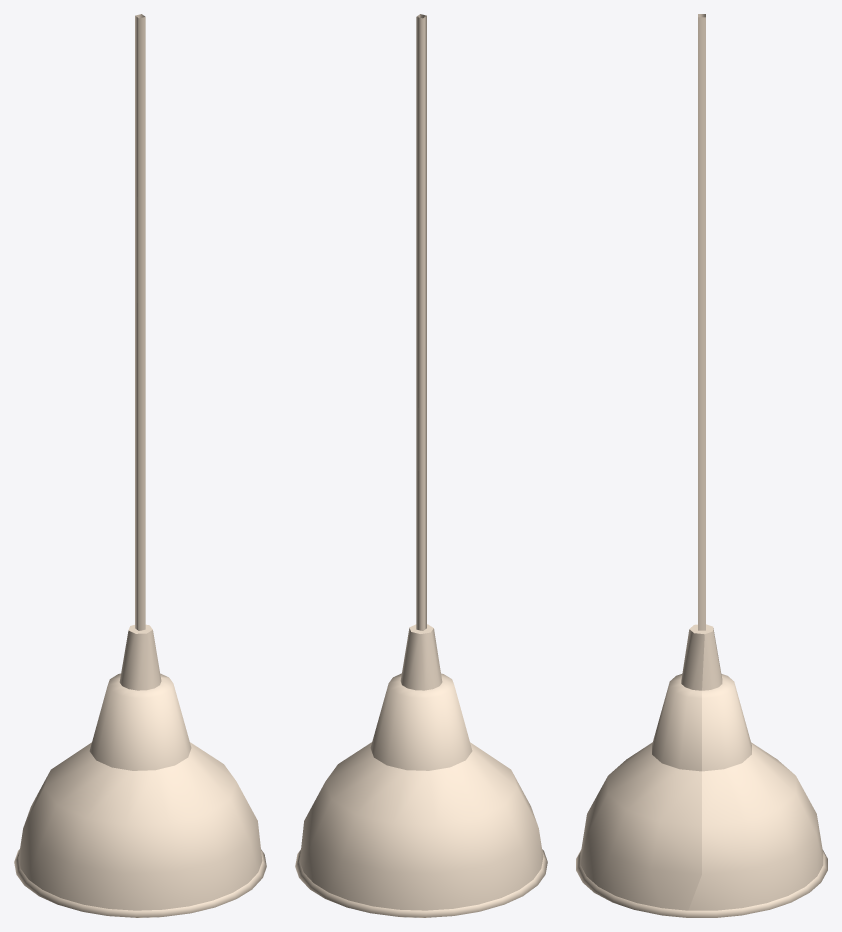
Rendered from lightbulblong2.fbx.
3 renders of one model, left to right at view 1: azimuth 30°, elevation 25°; view 2: azimuth 150°, elevation 25°; view 3: azimuth 270°, elevation 25°, orthographic.
Visible parts, largest first — view 1: lamp06; view 2: lamp06; view 3: lamp06.
Boxes of the visible parts, x1,y1,x2,y2 form: lamp06: [14, 14, 266, 917]; lamp06: [295, 14, 547, 917]; lamp06: [576, 14, 827, 917].
Bounding box in the file's own units: 60.13 × 225 × 60.19.
